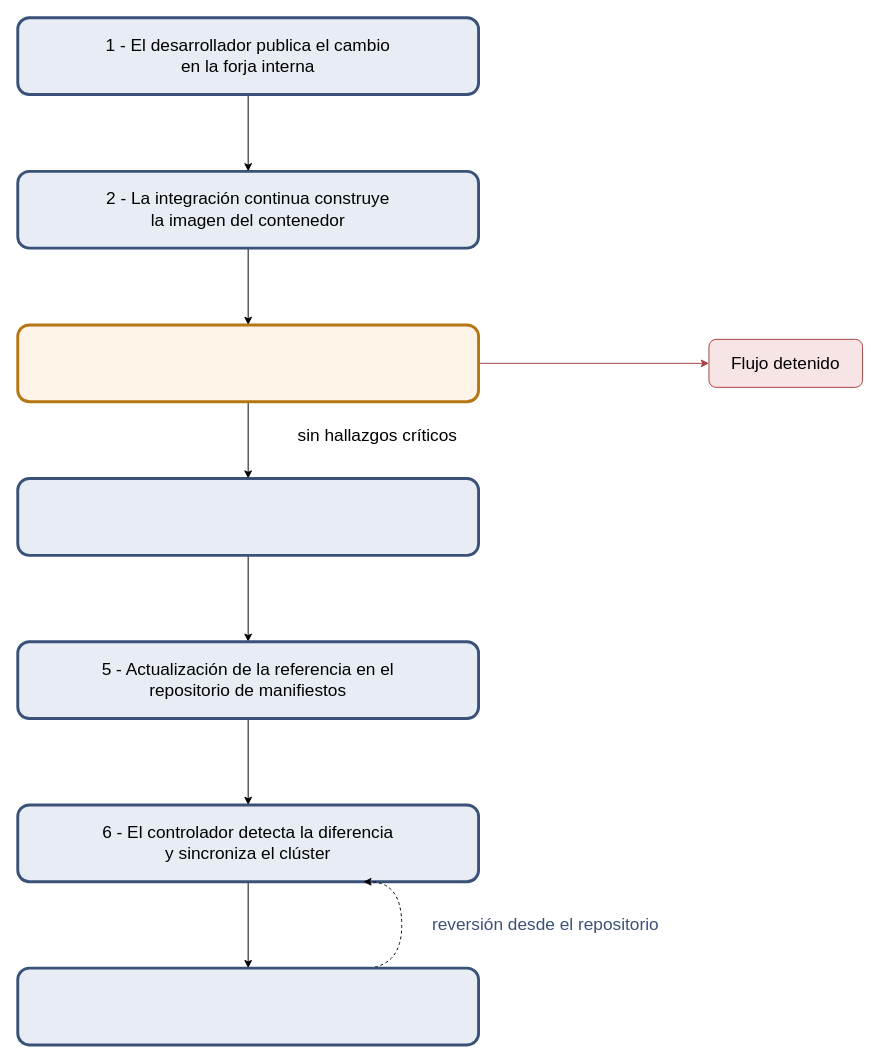
This 879x1063 diagram has some shape labels left out. Here are the shapes that lost their labels. From the top down, the box of each, then its label:
(16, 323, 480, 403): 3 - Análisis de vulnerabilidades de la imagen
(16, 477, 480, 556): 4 - Publicación en el registro interno con etiqueta de versión
(16, 966, 480, 1046): 7 - Reparto progresivo del tráfico hacia la nueva versión
